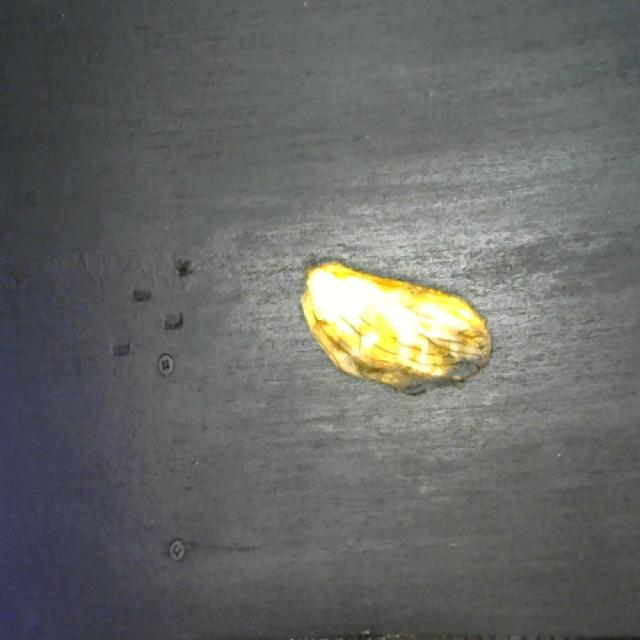biodegradable: (294, 253, 498, 400)
